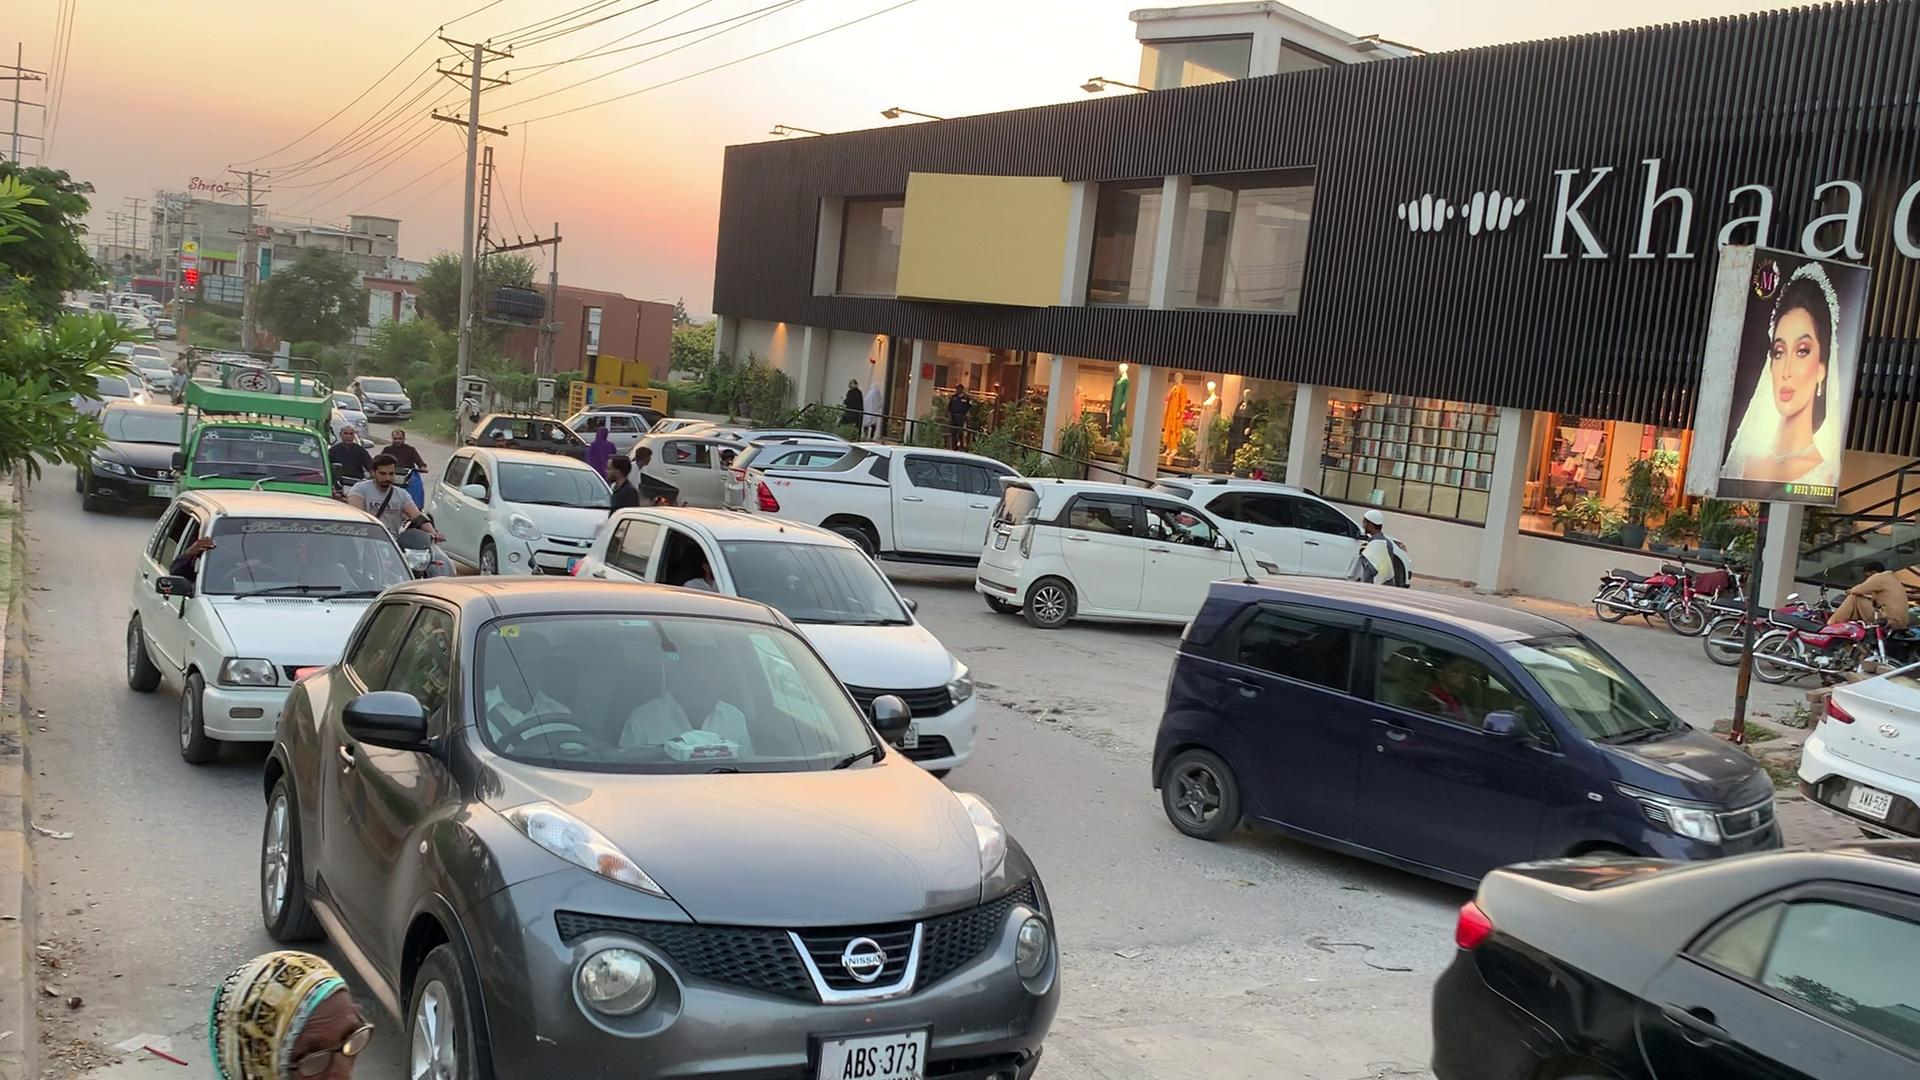windshield: (467, 611, 897, 787)
